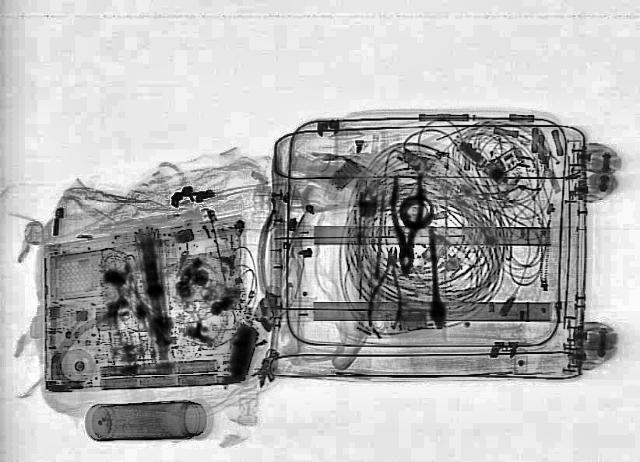Pliers: (364, 246, 410, 330), (386, 172, 424, 272)
